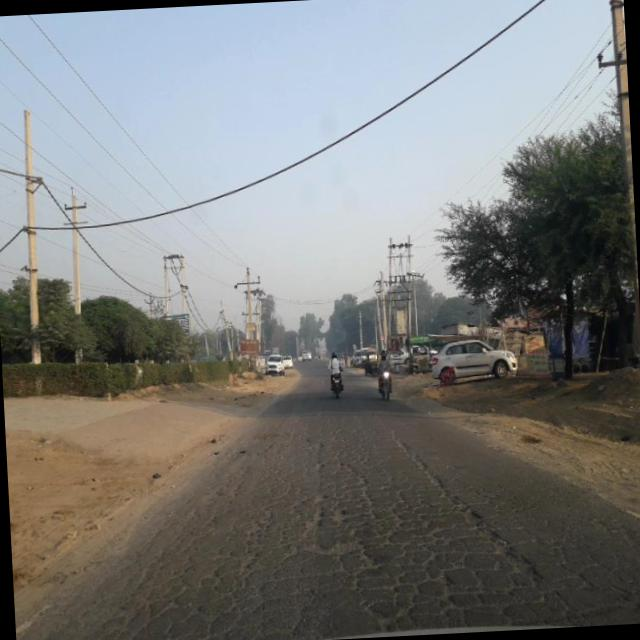crack: (52, 429, 621, 640)
pothole: (385, 399, 570, 633)
